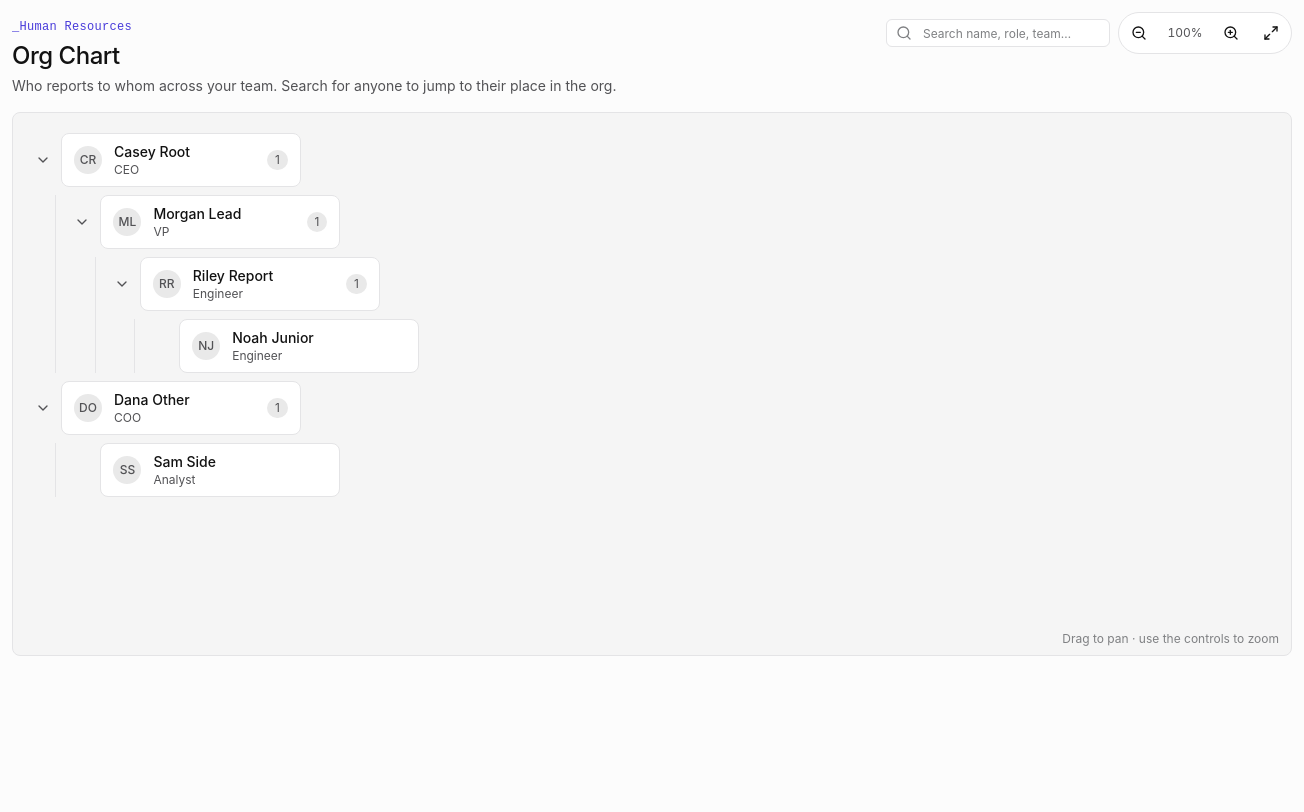
Test case: OrgChartPage search › keeps a non-leaf match's grandchildren collapsed
Expected: the text "Casey Root" is shown, [114,142,190,162]
Type "Morgan" into the search field with placeholder "Search name, role, team…" at (998, 33), box [886,19,1110,47]
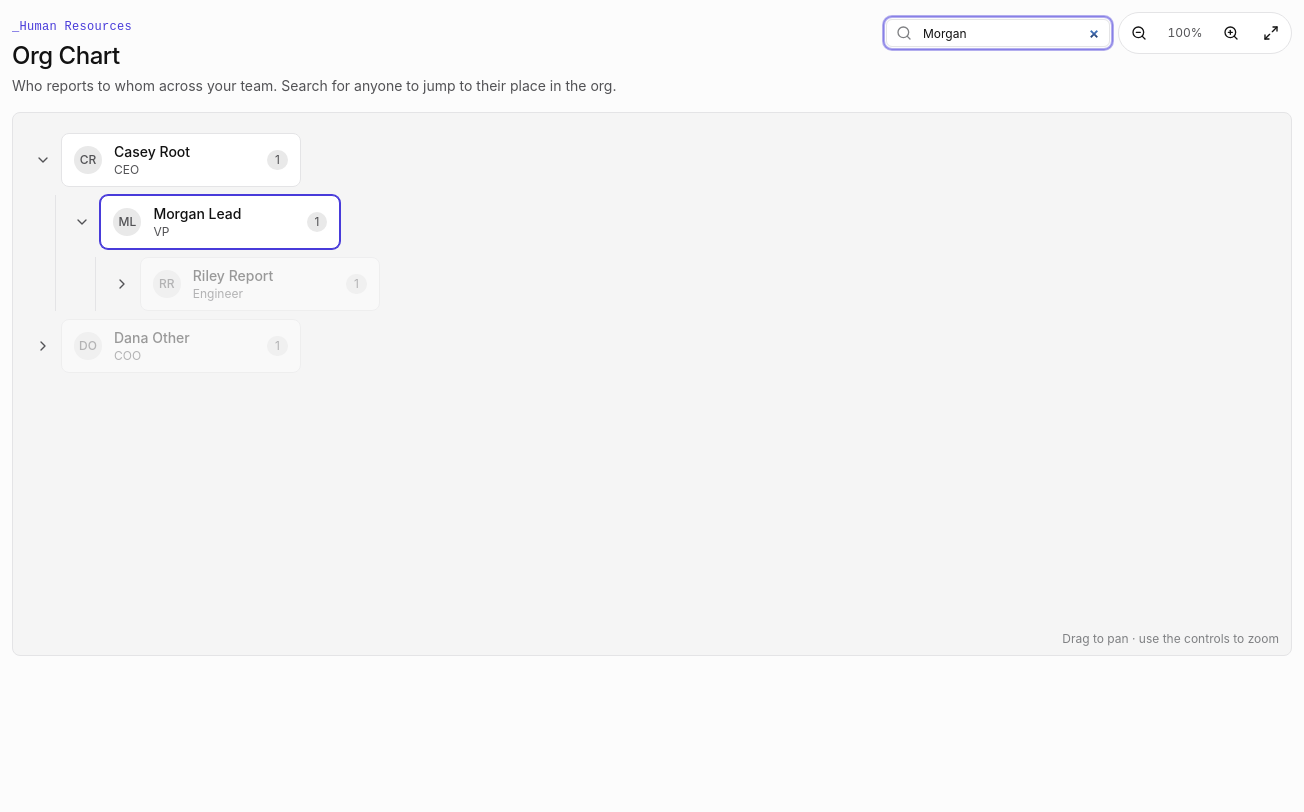
Expected: the text "Riley Report" is shown, [193,266,273,286]
Expected: the text "Noah Junior" is gone
